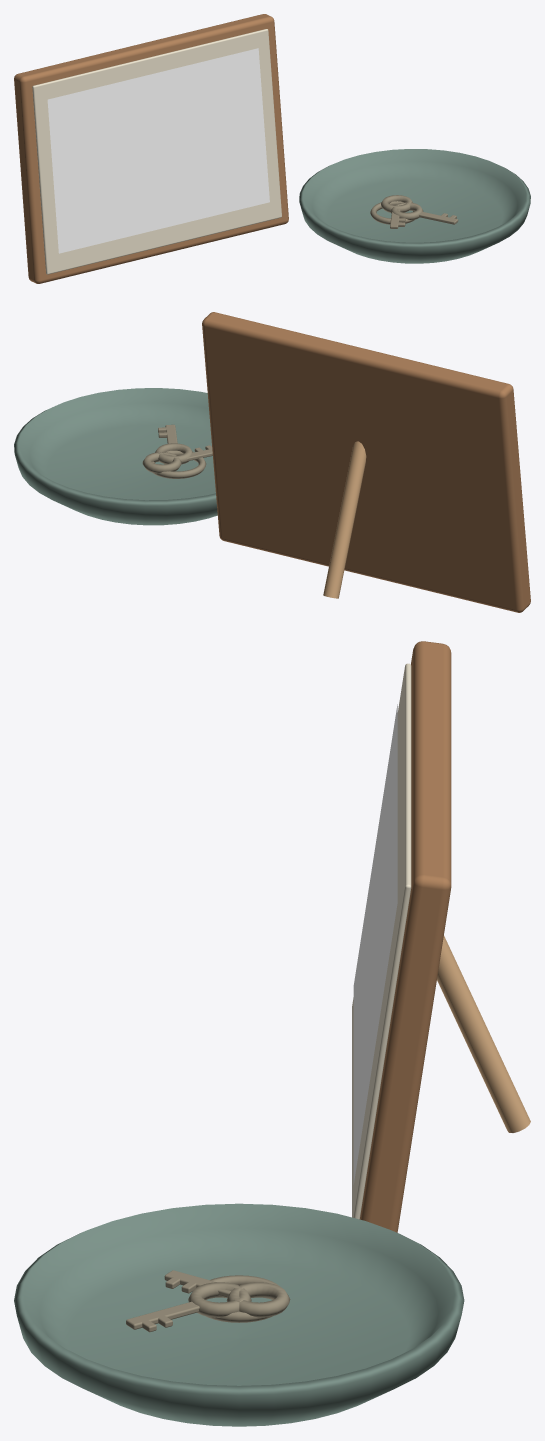
The model's file is family-entry-memory-v1.glb.
The picture shows the model from 3 angles, top to bottom: view 1: azimuth 30°, elevation 25°; view 2: azimuth 150°, elevation 25°; view 3: azimuth 270°, elevation 25°; orthographic projection. The views are drawn at different scales.
Visible parts, largest first — view 1: Picnic print, Glazed key dish, Ivory mount, Walnut photo frame, Bow (×2); view 2: Walnut photo frame, Glazed key dish, Frame easel, Bow (×2), Key split ring; view 3: Glazed key dish, Walnut photo frame, Picnic print, Ivory mount, Frame easel, Bow (×2).
Part boxes in pixels (bbox=[...]): Picnic print: bbox=[47, 48, 269, 253]; Glazed key dish: bbox=[299, 149, 530, 263]; Ivory mount: bbox=[32, 29, 281, 274]; Walnut photo frame: bbox=[14, 14, 288, 283]; Bow (×2): bbox=[381, 195, 423, 220]; Walnut photo frame: bbox=[202, 312, 530, 612]; Glazed key dish: bbox=[14, 388, 217, 525]; Frame easel: bbox=[323, 441, 366, 598]; Bow (×2): bbox=[142, 443, 192, 473]; Key split ring: bbox=[152, 450, 206, 478]; Glazed key dish: bbox=[14, 1203, 464, 1426]; Walnut photo frame: bbox=[359, 641, 451, 1232]; Picnic print: bbox=[353, 704, 397, 1184]; Ivory mount: bbox=[352, 663, 411, 1219]; Frame easel: bbox=[437, 936, 530, 1132]; Bow (×2): bbox=[188, 1282, 290, 1317].
Bounding box in the file's own units: 0.3125 × 0.1331 × 0.1607.
